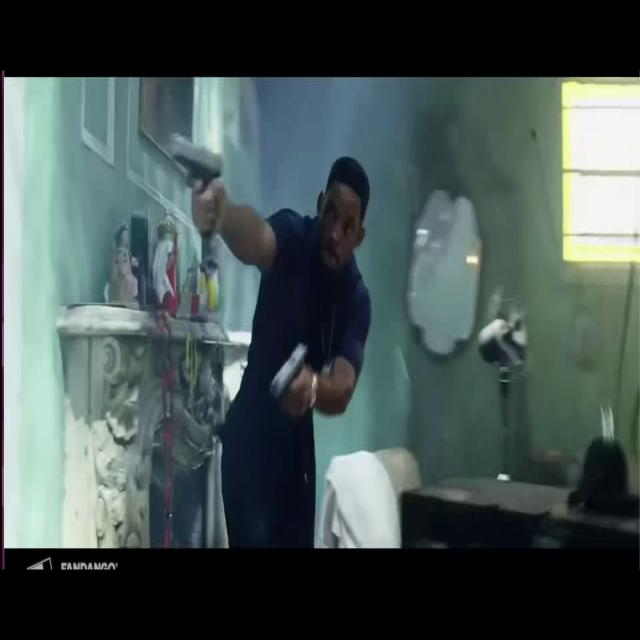weapons: (163, 110, 234, 229), (258, 322, 312, 422)
